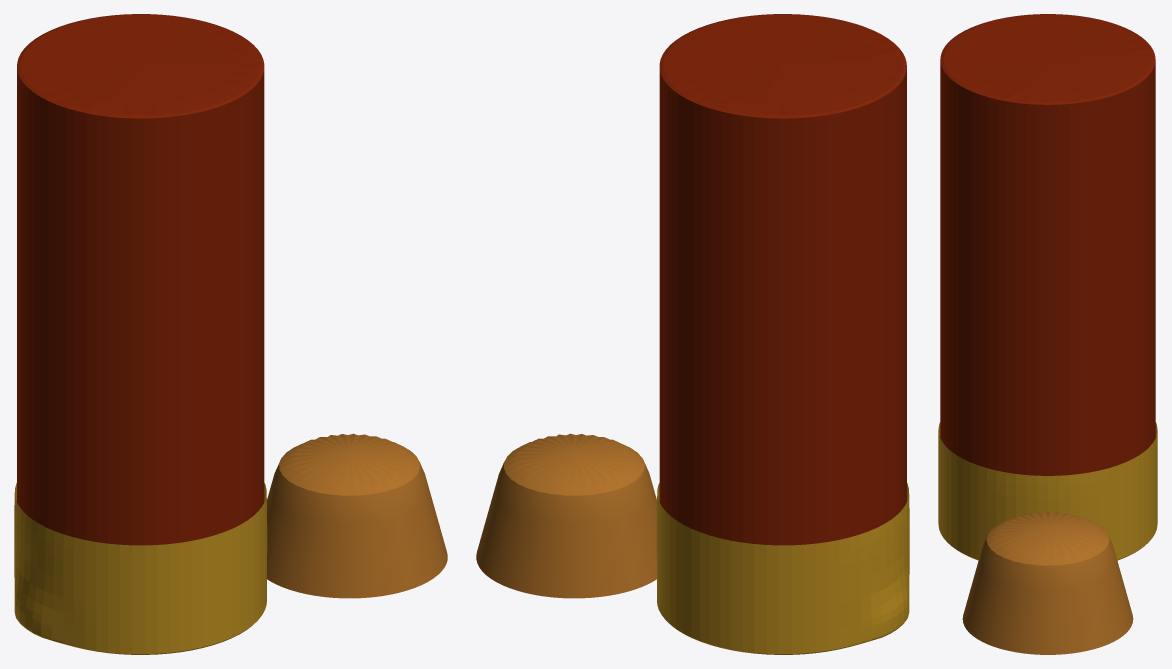
File: Bullet.fbx
3 renders of one model, left to right at view 1: azimuth 30°, elevation 25°; view 2: azimuth 150°, elevation 25°; view 3: azimuth 270°, elevation 25°, orthographic. The views are drawn at different scales.
Visible parts, largest first — view 1: Cylinder.003, Cylinder.004, Cylinder.001; view 2: Cylinder.003, Cylinder.004, Cylinder.001; view 3: Cylinder.003, Cylinder.001, Cylinder.004.
Boxes of the visible parts, x1,y1,x2,y2 form: Cylinder.003: (17,14,264,545); Cylinder.004: (14,483,267,654); Cylinder.001: (267,433,447,598); Cylinder.003: (659,14,906,545); Cylinder.004: (656,483,909,654); Cylinder.001: (476,433,656,598); Cylinder.003: (940,14,1155,475); Cylinder.001: (962,512,1133,654); Cylinder.004: (938,422,1157,560).
Bounding box in the file's own units: 235 × 298 × 125.
